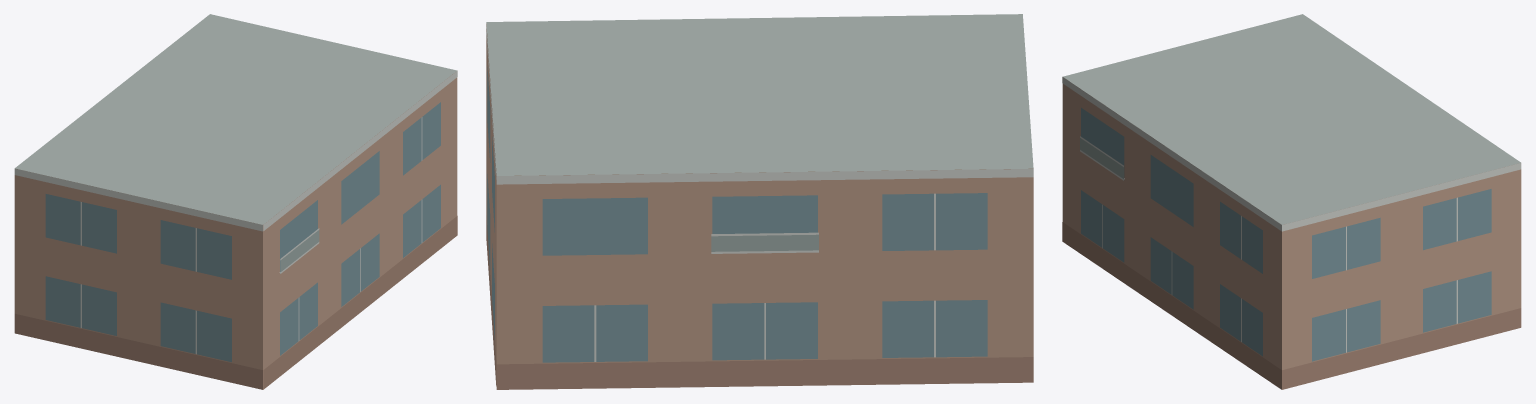
File: survey-upis-33010434.glb
3 renders of one model, left to right at view 1: azimuth 30°, elevation 25°; view 2: azimuth 150°, elevation 25°; view 3: azimuth 270°, elevation 25°, orthographic. The views are drawn at different scales.
Visible parts, largest first — view 1: survey-upis-33010434.tmp; view 2: survey-upis-33010434.tmp; view 3: survey-upis-33010434.tmp.
Boxes of the visible parts, bbox=[...] form: survey-upis-33010434.tmp: bbox=[14, 14, 457, 389]; survey-upis-33010434.tmp: bbox=[486, 14, 1033, 389]; survey-upis-33010434.tmp: bbox=[1062, 14, 1521, 389].
Size of the model in its own units: 16.75 by 6.1 by 15.39.
